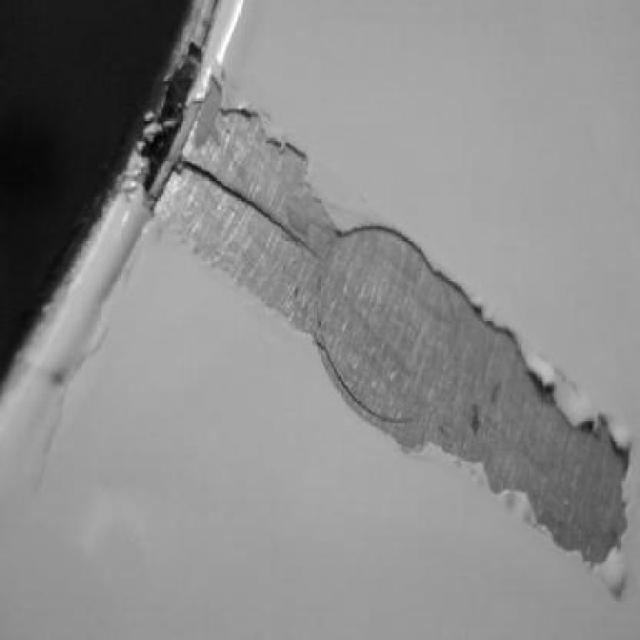crack: (394, 234, 523, 363), (122, 44, 203, 205), (252, 205, 311, 251), (180, 160, 246, 199), (525, 366, 554, 402), (580, 418, 606, 441), (231, 109, 255, 118)
